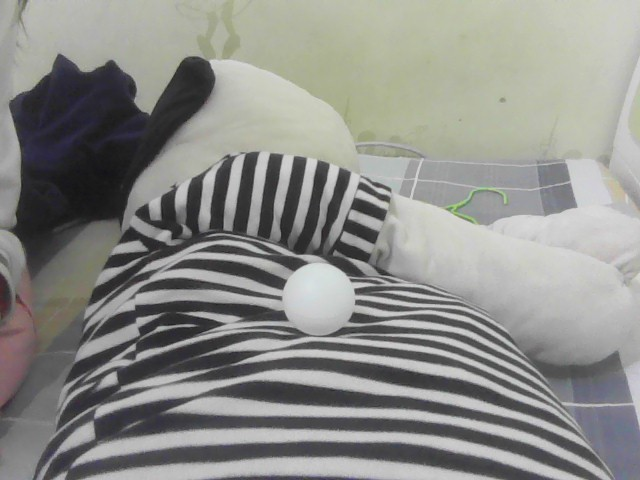ball: (284, 260, 355, 337)
